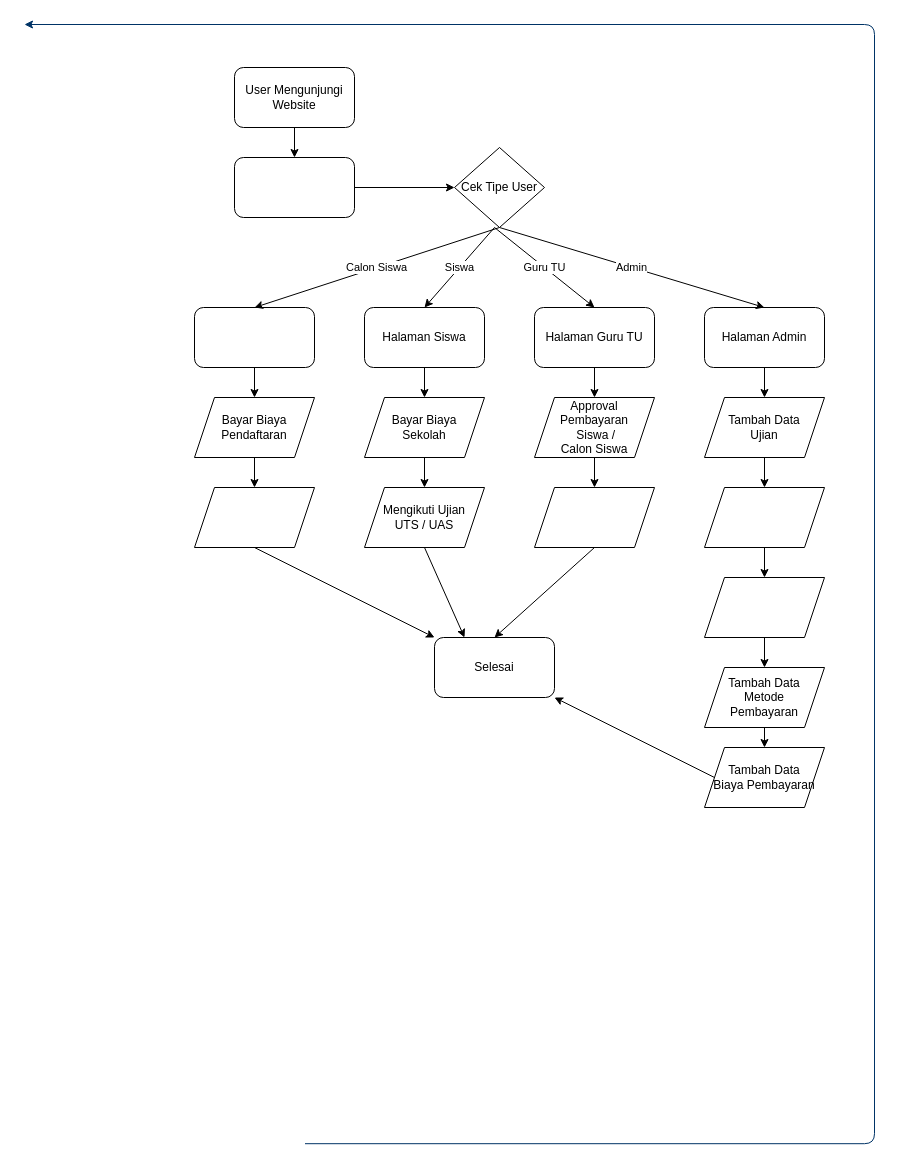
The diagram is 900 pixels wide and 1170 high, and some of its shapes have lost their labels. Each missing label, with the centre of its shape:
"Approval PPDB Data Calon Siswa" goes at (x=594, y=517).
"Halaman Calon Siswa" goes at (x=254, y=337).
"Halaman Login" goes at (x=294, y=187).
"Mengiikuti Ujian" goes at (x=254, y=517).
"Tambah Data Guru" goes at (x=764, y=607).
"Tambah Data Kelas" goes at (x=764, y=517).
